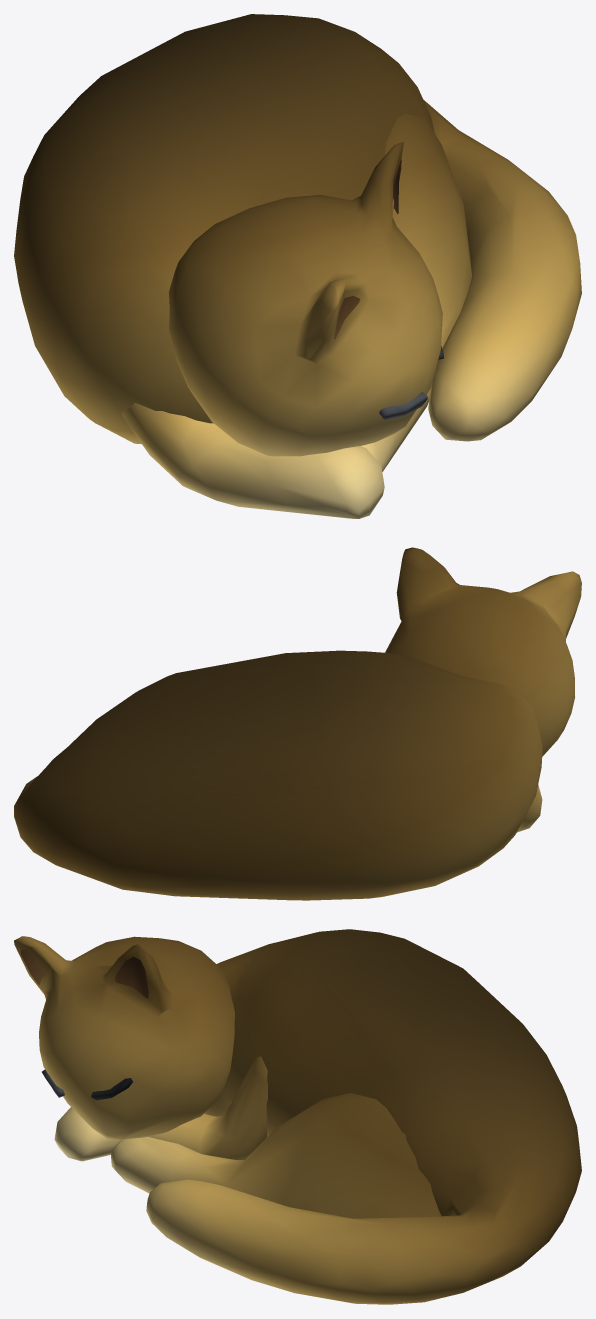
Rendered from Cat.fbx.
3 views of the same model, one above another, from view 1: azimuth 30°, elevation 25°; view 2: azimuth 150°, elevation 25°; view 3: azimuth 270°, elevation 25° (orthographic). The views are drawn at different scales.
Visible parts, largest first — view 1: Eye.001; view 2: Eye.001; view 3: Eye.001.
Part boxes in pixels (x1=…): Eye.001: x1=14, y1=14, x2=581, y2=518; Eye.001: x1=14, y1=547, x2=581, y2=900; Eye.001: x1=14, y1=929, x2=581, y2=1304.
Bounding box in the file's own units: 0.8306 × 0.4824 × 0.9432.
